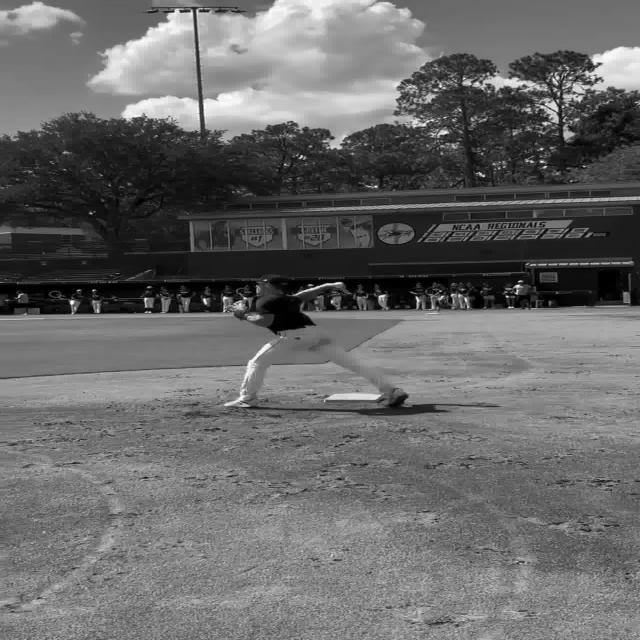base: (325, 392, 380, 404)
baseball_glove: (231, 301, 249, 320)
shoe: (380, 389, 409, 408), (224, 400, 258, 408)
